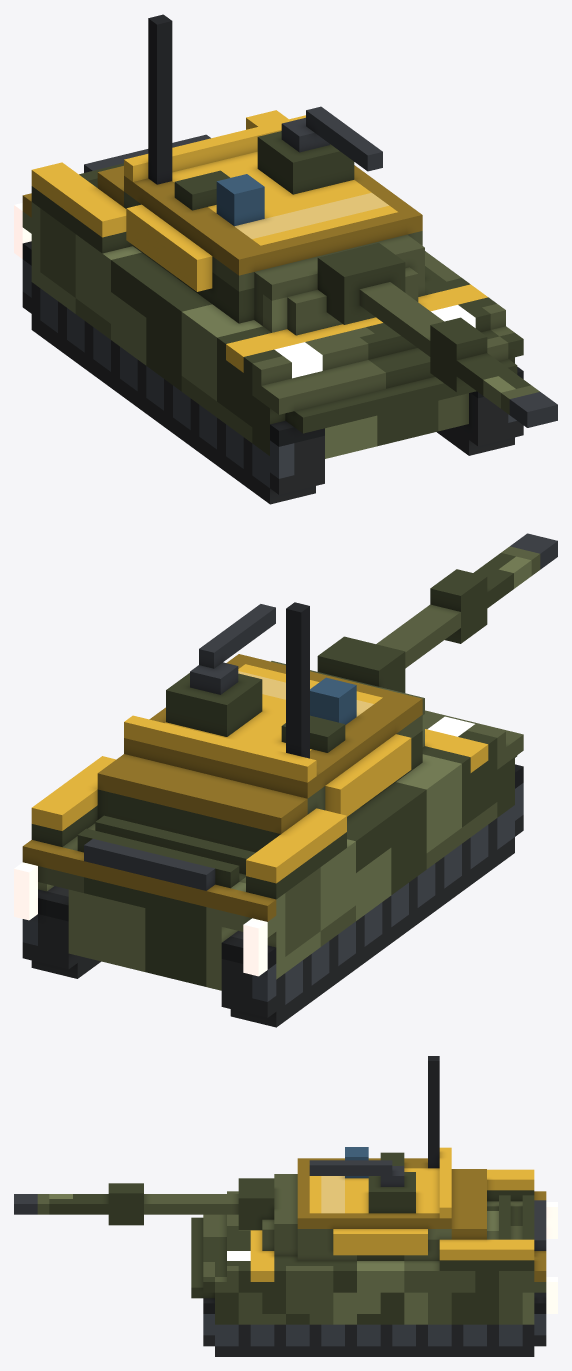
Rendered from cm_tank_2.glb.
The picture shows the model from 3 angles, top to bottom: view 1: azimuth 30°, elevation 25°; view 2: azimuth 150°, elevation 25°; view 3: azimuth 270°, elevation 25°; orthographic projection. The views are drawn at different scales.
Visible parts, largest first — view 1: cm_tank_2_body; view 2: cm_tank_2_body; view 3: cm_tank_2_body.
Boxes of the visible parts, box(x1,y1,x2,y2) form: cm_tank_2_body: box(14, 14, 557, 504); cm_tank_2_body: box(14, 533, 557, 1027); cm_tank_2_body: box(14, 1056, 557, 1356).
Size of the model in its own units: 1 by 1.38 by 2.88.
1 material, 1 textured.
